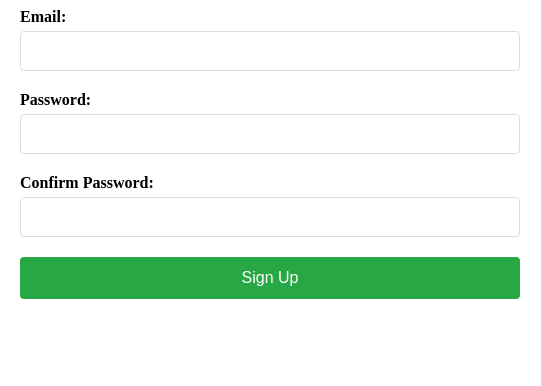
Scenario: Form Component › Form Submission › should show success message on valid form submission
This screenshot has width=541, height=386.
Type "test@example.com" into the field with test id "email-input" at {"x": 270, "y": 51}, box [20,31,520,71]
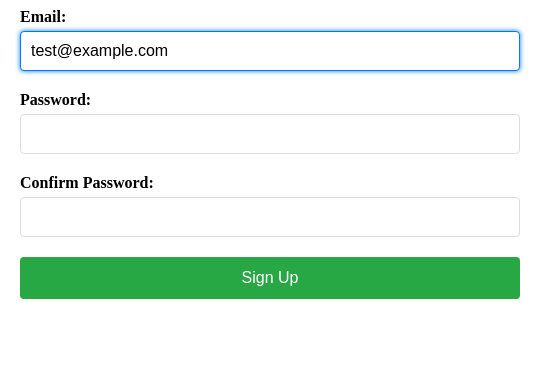
Type "password123" into the password field with test id "password-input" at {"x": 270, "y": 134}, box [20,114,520,154]
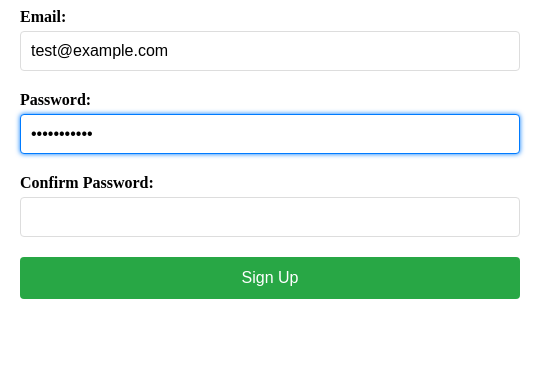
Type "password123" into the password field with test id "confirm-password-input" at {"x": 270, "y": 217}, box [20,197,520,237]
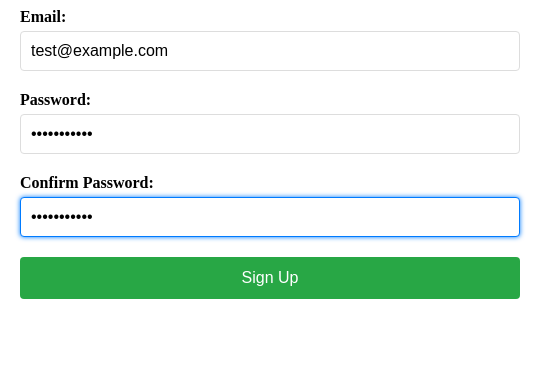
Click the button with test id "submit-button" at {"x": 270, "y": 278}, box [20,257,520,299]
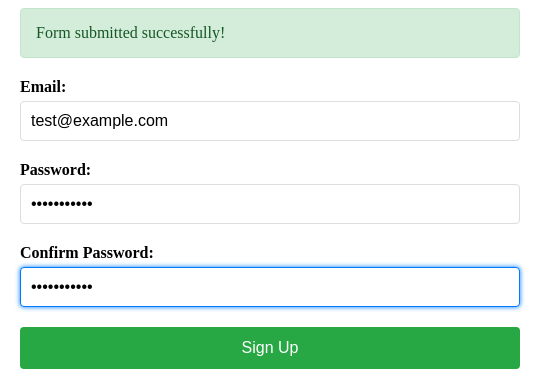
Expected: the text "Form submitted successfully!" is shown, [20,8,520,58]
Expected: the text with test id "success-message" reads "Form submitted successfully!", [36,24,225,41]
